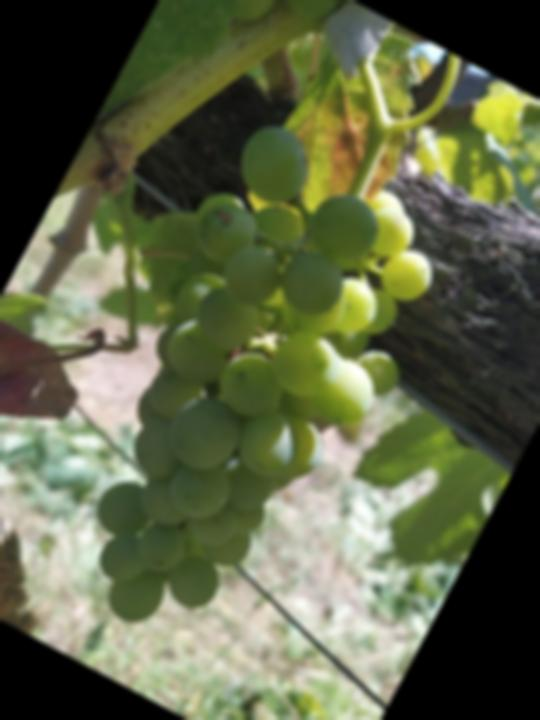grape: (9, 108, 479, 683)
